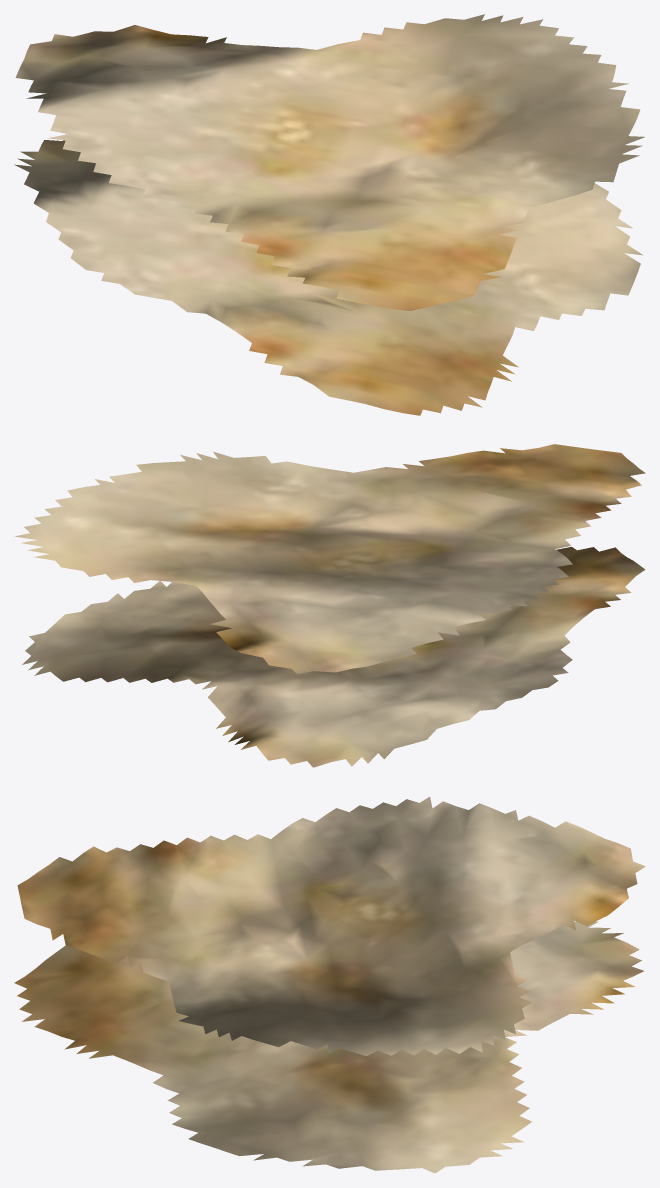
File: chicken-1.glb
3 renders of one model, top to bottom at view 1: azimuth 30°, elevation 25°; view 2: azimuth 150°, elevation 25°; view 3: azimuth 270°, elevation 25°, orthographic. The views are drawn at different scales.
Parts seen in each view (by area): view 1: fetta di pollo_Default OBJ_0; view 2: fetta di pollo_Default OBJ_0; view 3: fetta di pollo_Default OBJ_0.
Part boxes in pixels (x1,y1,x2,y2): fetta di pollo_Default OBJ_0: (14,14,644,415); fetta di pollo_Default OBJ_0: (14,444,645,767); fetta di pollo_Default OBJ_0: (14,796,645,1173).
Bounding box in the file's own units: 0.0262 × 0.00785 × 0.03.
Materials: 1 (1 with a texture image).
